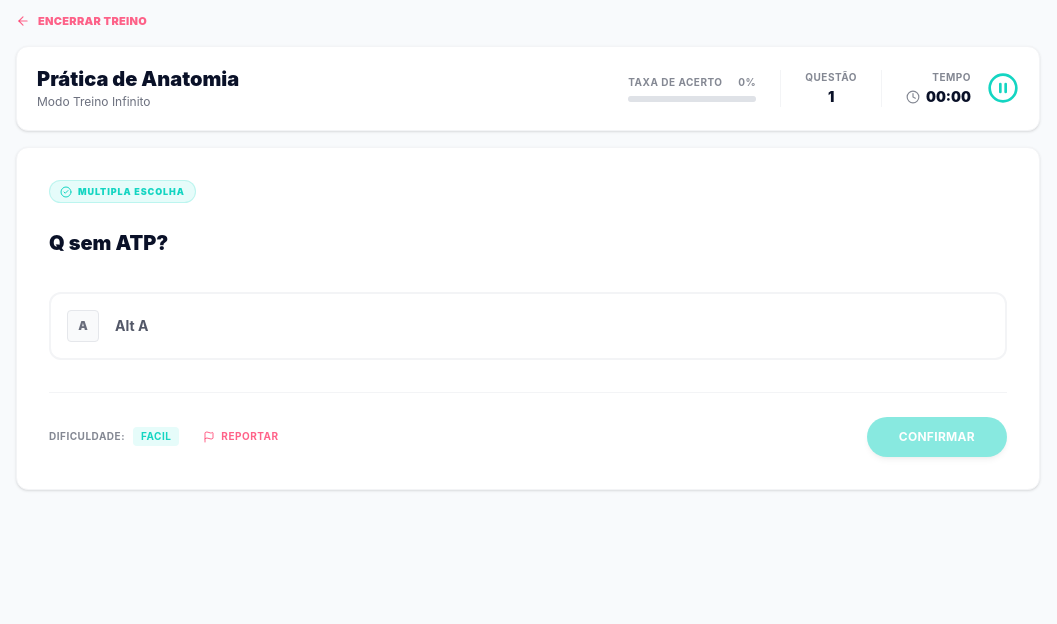
Test: ResponderQuizPage - Treino Infinito › nao deve exibir ganho de ATP quando acerto nao concede recompensa
Check: the heading "Q sem ATP?" is shown, box top-left (49, 231), bottom-right (168, 255)
Click the text "Alt A": click(132, 326) top-left (115, 316), bottom-right (148, 336)
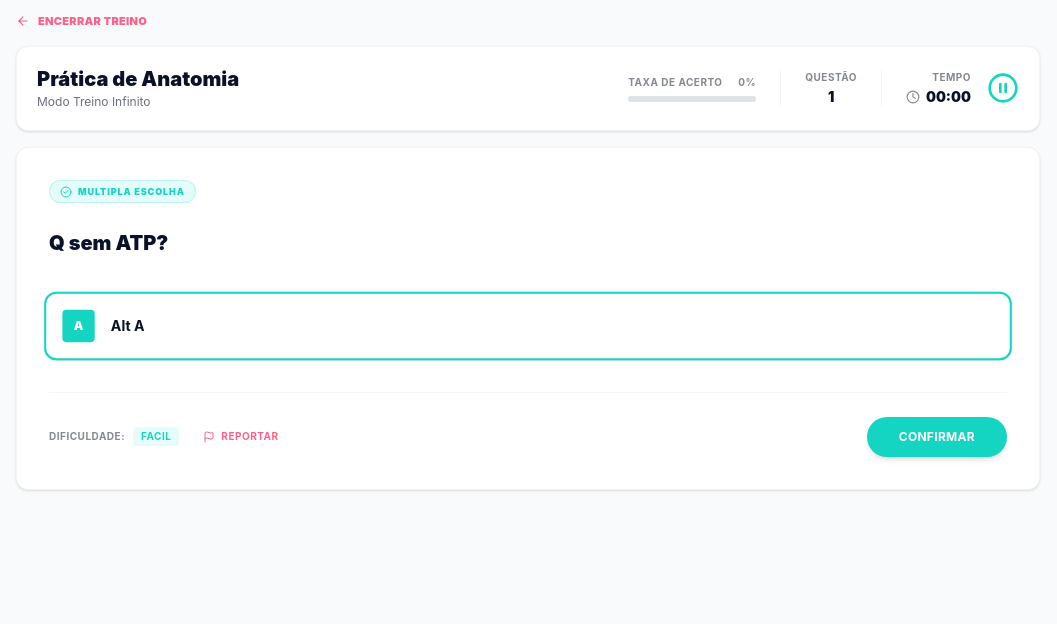
Click the button "Confirmar": click(937, 437) top-left (867, 417), bottom-right (1007, 457)
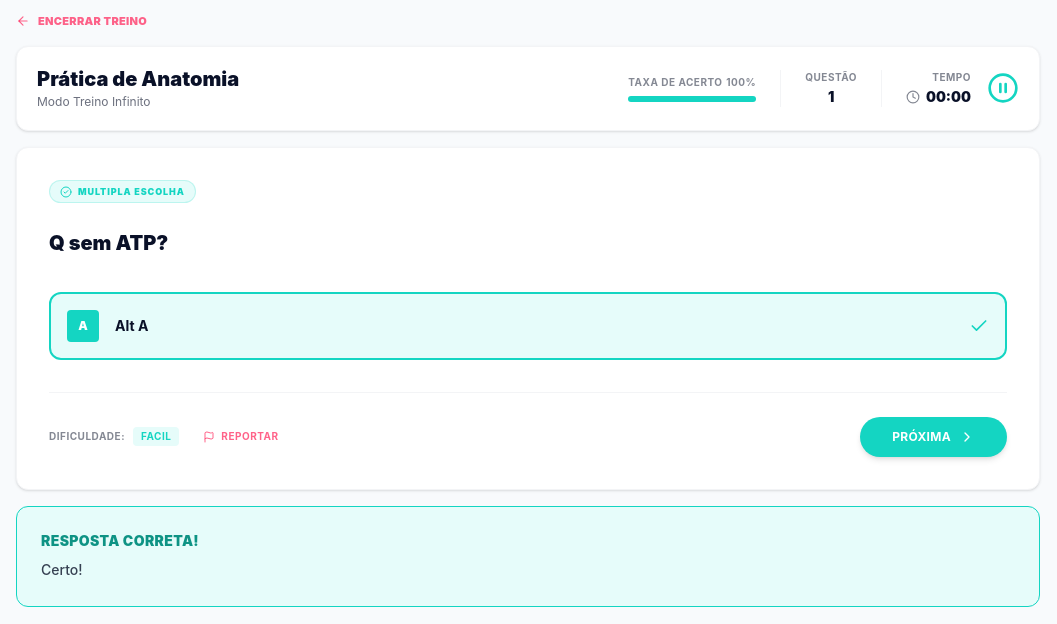
Check: the heading "Resposta Correta!" is shown, box top-left (41, 531), bottom-right (199, 551)
